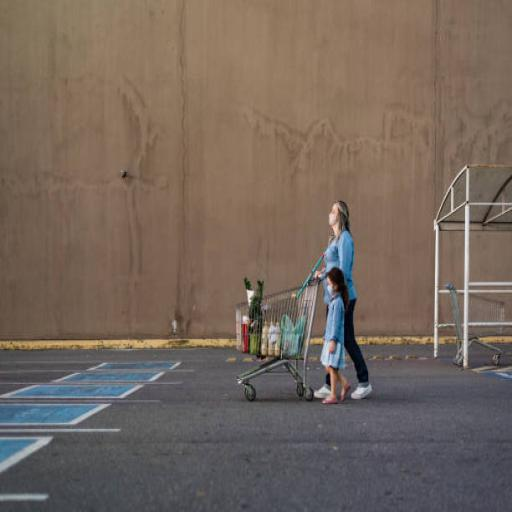shopping_cart: (235, 274, 325, 403)
